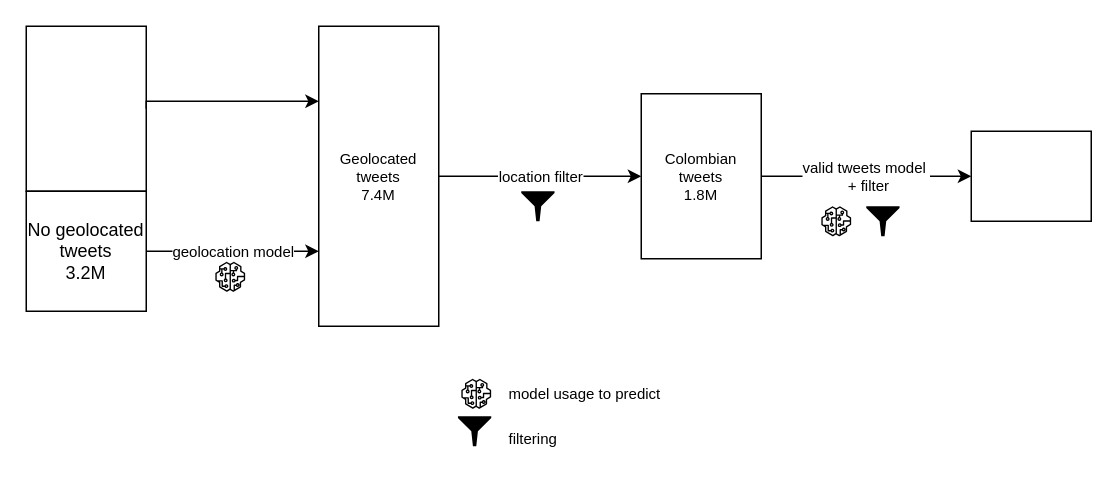
Image size: 1118x488. Some labels were removed from this diagram. The shapes that lost their labels are listed below. From the top down, each one's centre as x and y in pixels, then its label:
At (85,108): "Geolocated tweets Nominatim API 4.2M".
At (1030,175): "Valid tweets 1.5M".
